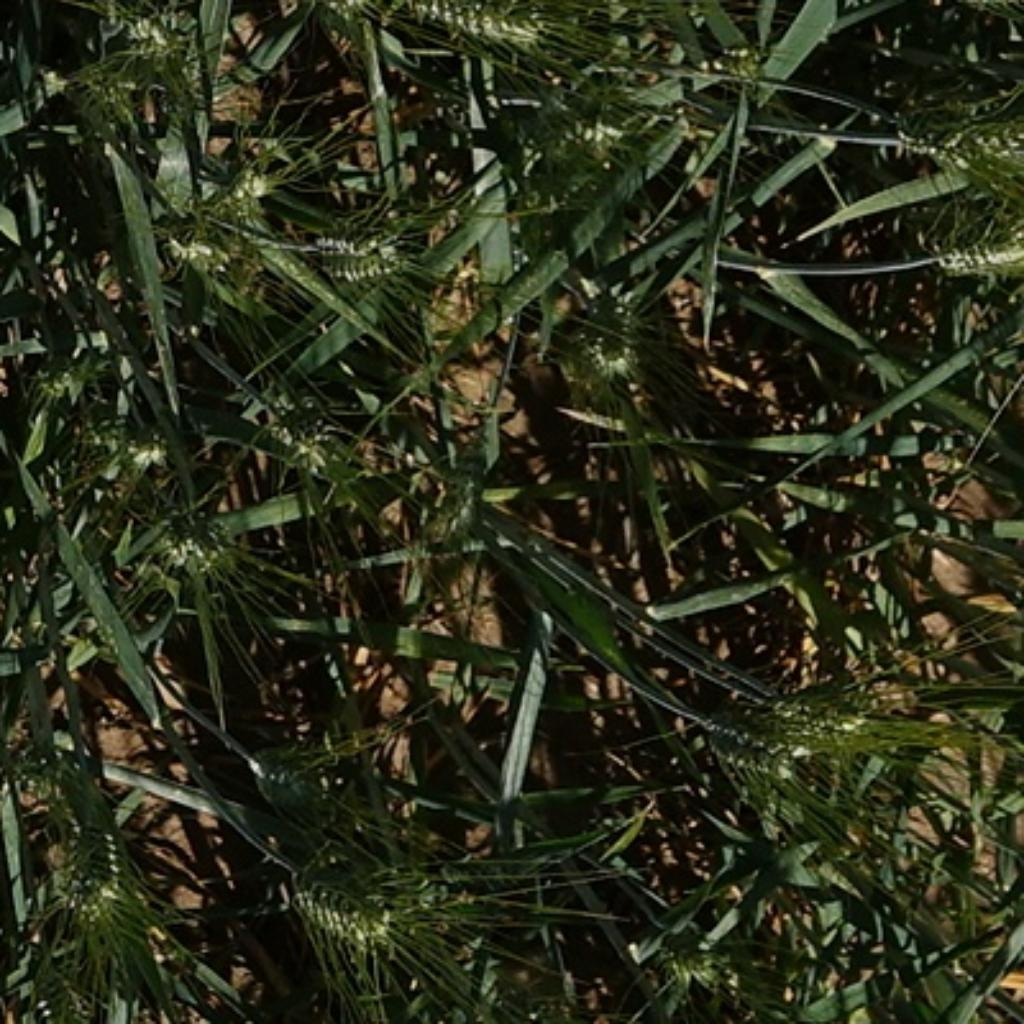0-0: (266, 860, 432, 1000), (747, 670, 944, 778), (555, 263, 673, 399), (33, 419, 168, 527), (40, 791, 149, 919), (125, 476, 243, 586), (673, 709, 806, 806), (156, 184, 268, 299), (240, 360, 350, 476), (906, 86, 1024, 191), (243, 719, 358, 824), (184, 133, 302, 235), (645, 919, 755, 1016), (384, 0, 573, 48), (299, 207, 409, 286), (59, 50, 147, 144), (110, 6, 226, 75), (507, 114, 626, 179), (0, 944, 81, 1024), (927, 212, 1019, 279), (178, 54, 264, 125), (12, 343, 117, 401)
